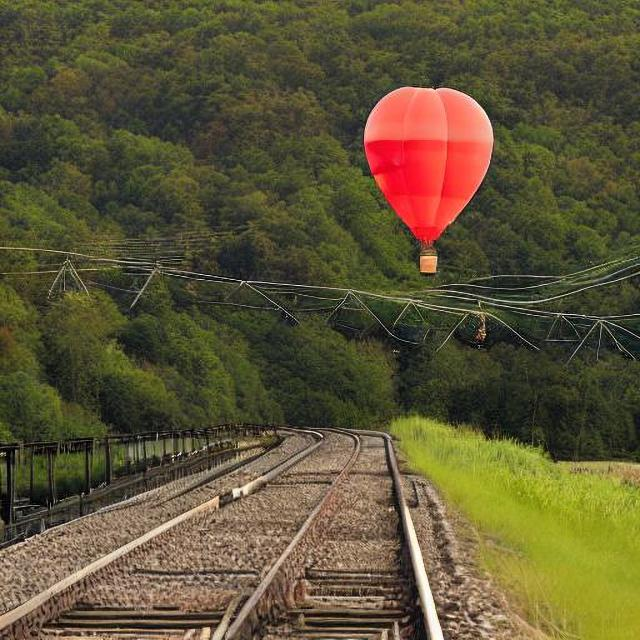balloon: (356, 81, 492, 274)
